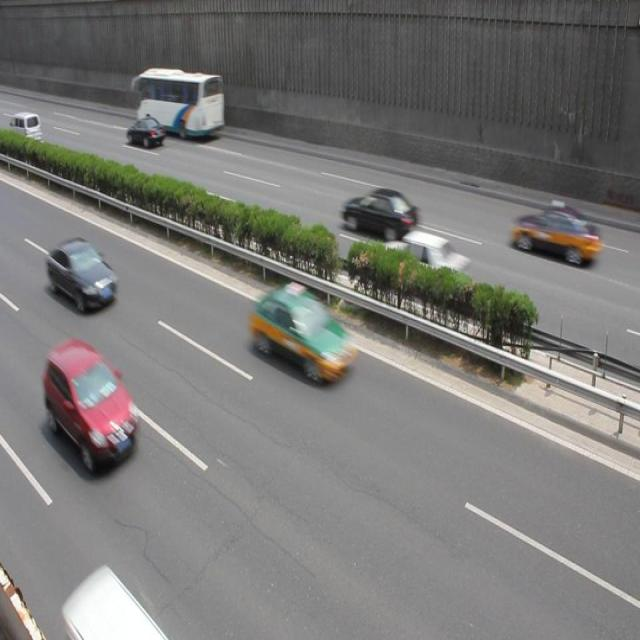car: (43, 339, 140, 474), (250, 281, 359, 384), (372, 230, 471, 302), (508, 199, 596, 267), (45, 235, 118, 312), (341, 187, 418, 242), (127, 116, 166, 148)
van: (133, 69, 225, 140)
